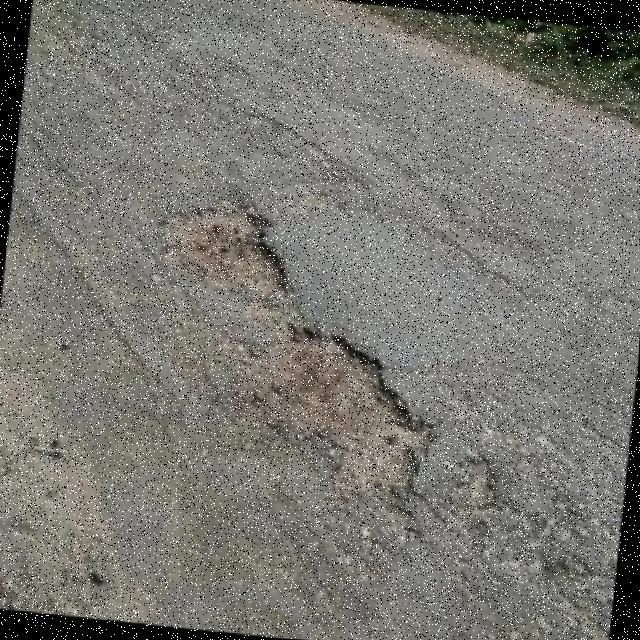Pothole: (159, 204, 429, 496)
